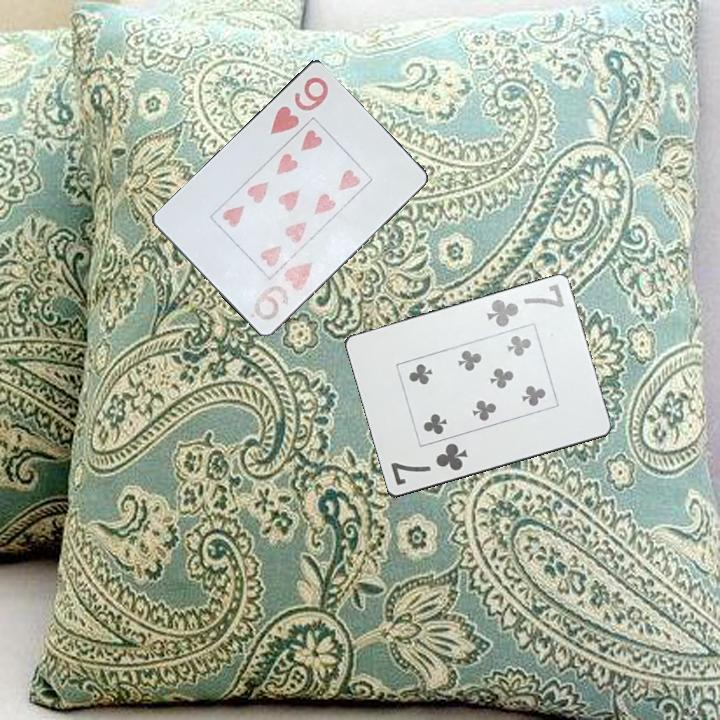7c: (483, 281, 567, 331), (387, 440, 471, 489)
9h: (247, 256, 316, 323), (263, 73, 332, 138)
